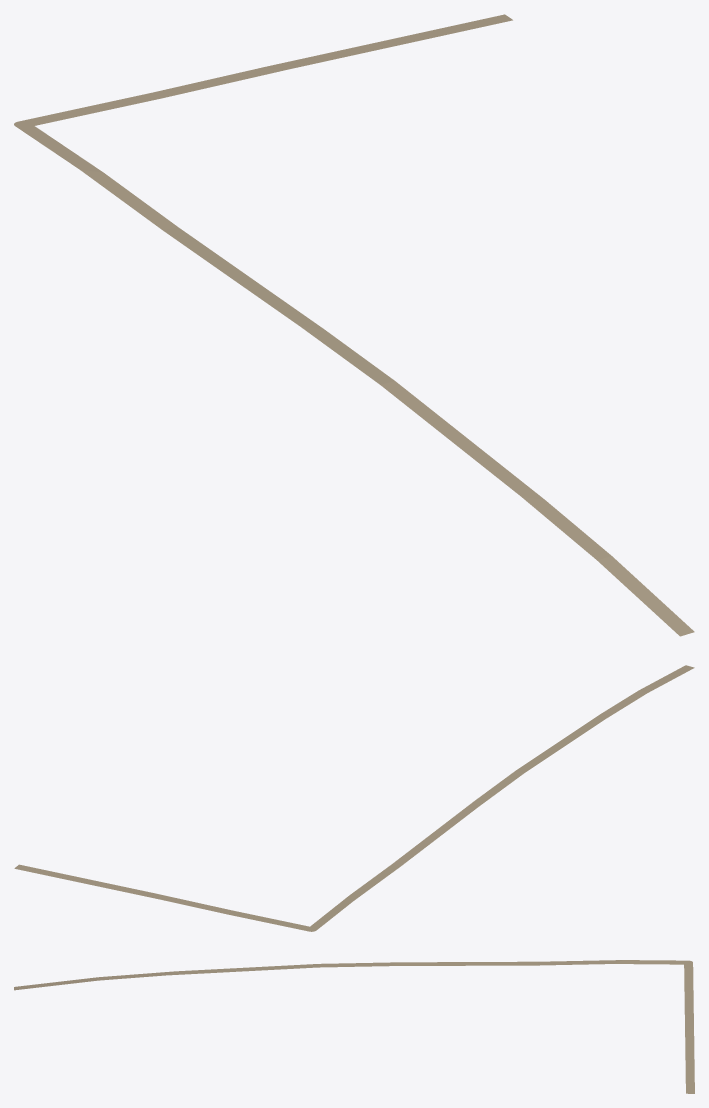
Rendered from farm_7_25_track.glb.
3 views of the same model, one above another, from view 1: azimuth 30°, elevation 25°; view 2: azimuth 150°, elevation 25°; view 3: azimuth 270°, elevation 25° (orthographic). The views are drawn at different scales.
Visible parts, largest first — view 1: geometry_0; view 2: geometry_0; view 3: geometry_0.
Part boxes in pixels (<box>): geometry_0: <box>14,14,694,636</box>; geometry_0: <box>14,665,694,931</box>; geometry_0: <box>14,960,694,1093</box>.
Size of the model in its own units: 109 by 9.12 by 248.
